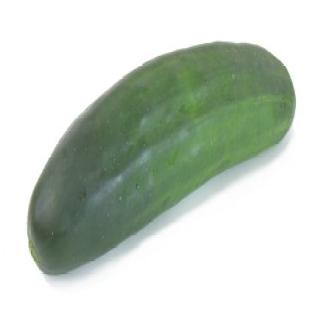Cucumber: (28, 43, 295, 274)
